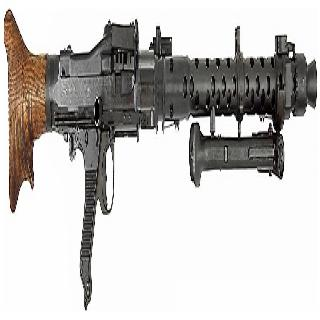gun: (2, 0, 317, 297)
